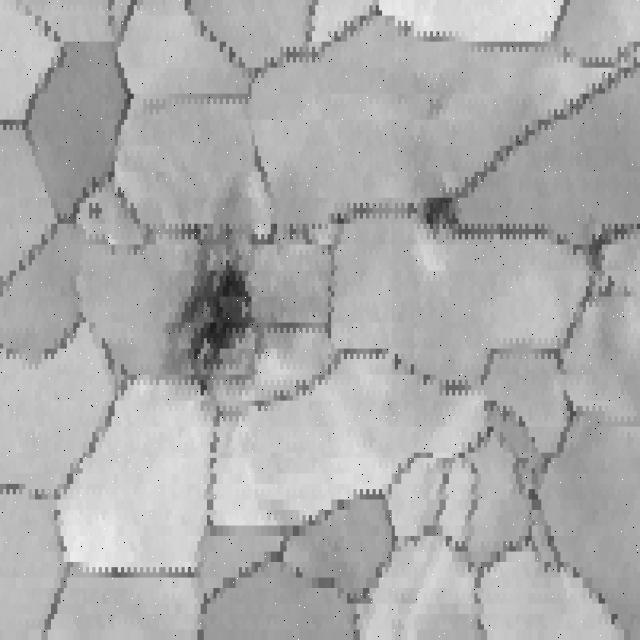good_void: (178, 224, 256, 400), (418, 190, 469, 253), (86, 199, 103, 225)
